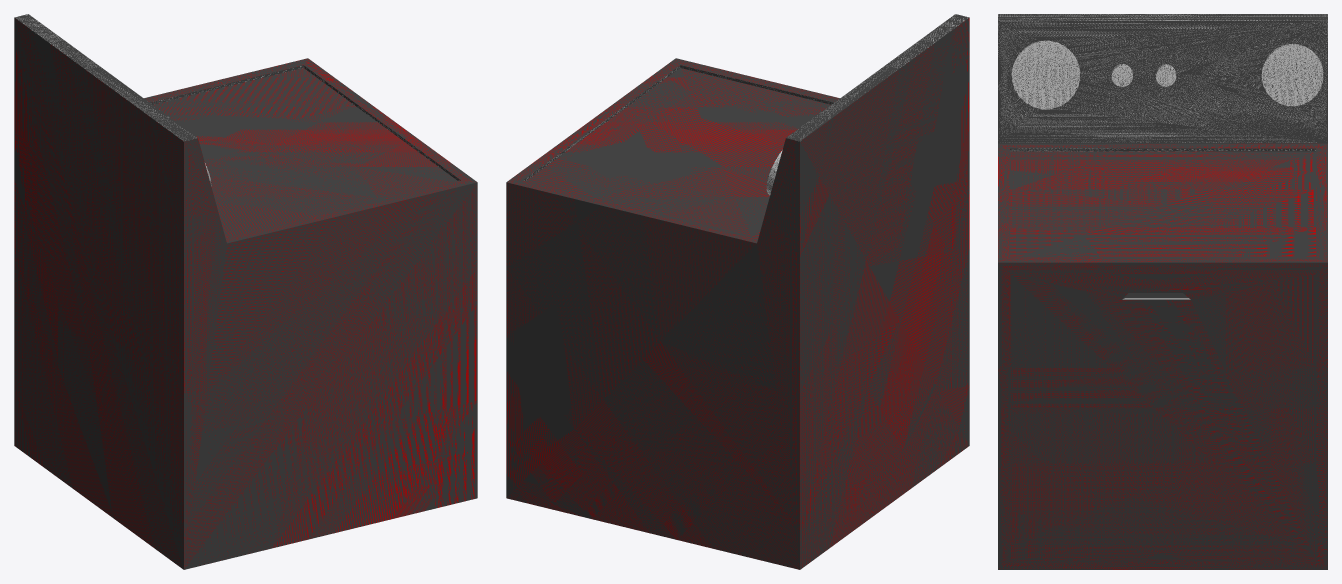
3 renders of one model, left to right at view 1: azimuth 30°, elevation 25°; view 2: azimuth 150°, elevation 25°; view 3: azimuth 270°, elevation 25°, orthographic. The views are drawn at different scales.
Visible parts, largest first — view 1: mesh1_mesh1-geometry; view 2: mesh1_mesh1-geometry; view 3: mesh1_mesh1-geometry.
Boxes of the visible parts, box(x1,y1,x2,y2) form: mesh1_mesh1-geometry: box(14, 14, 477, 569); mesh1_mesh1-geometry: box(506, 14, 969, 569); mesh1_mesh1-geometry: box(998, 14, 1327, 569).
Size of the model in its own units: 0.5037 by 0.7019 by 0.5037.
